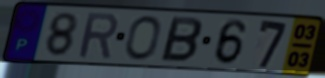6: (213, 17, 250, 67)
7: (257, 18, 289, 70)
8: (44, 12, 80, 58)
B: (158, 15, 205, 65)
O: (123, 14, 163, 62)
R: (77, 12, 120, 61)
